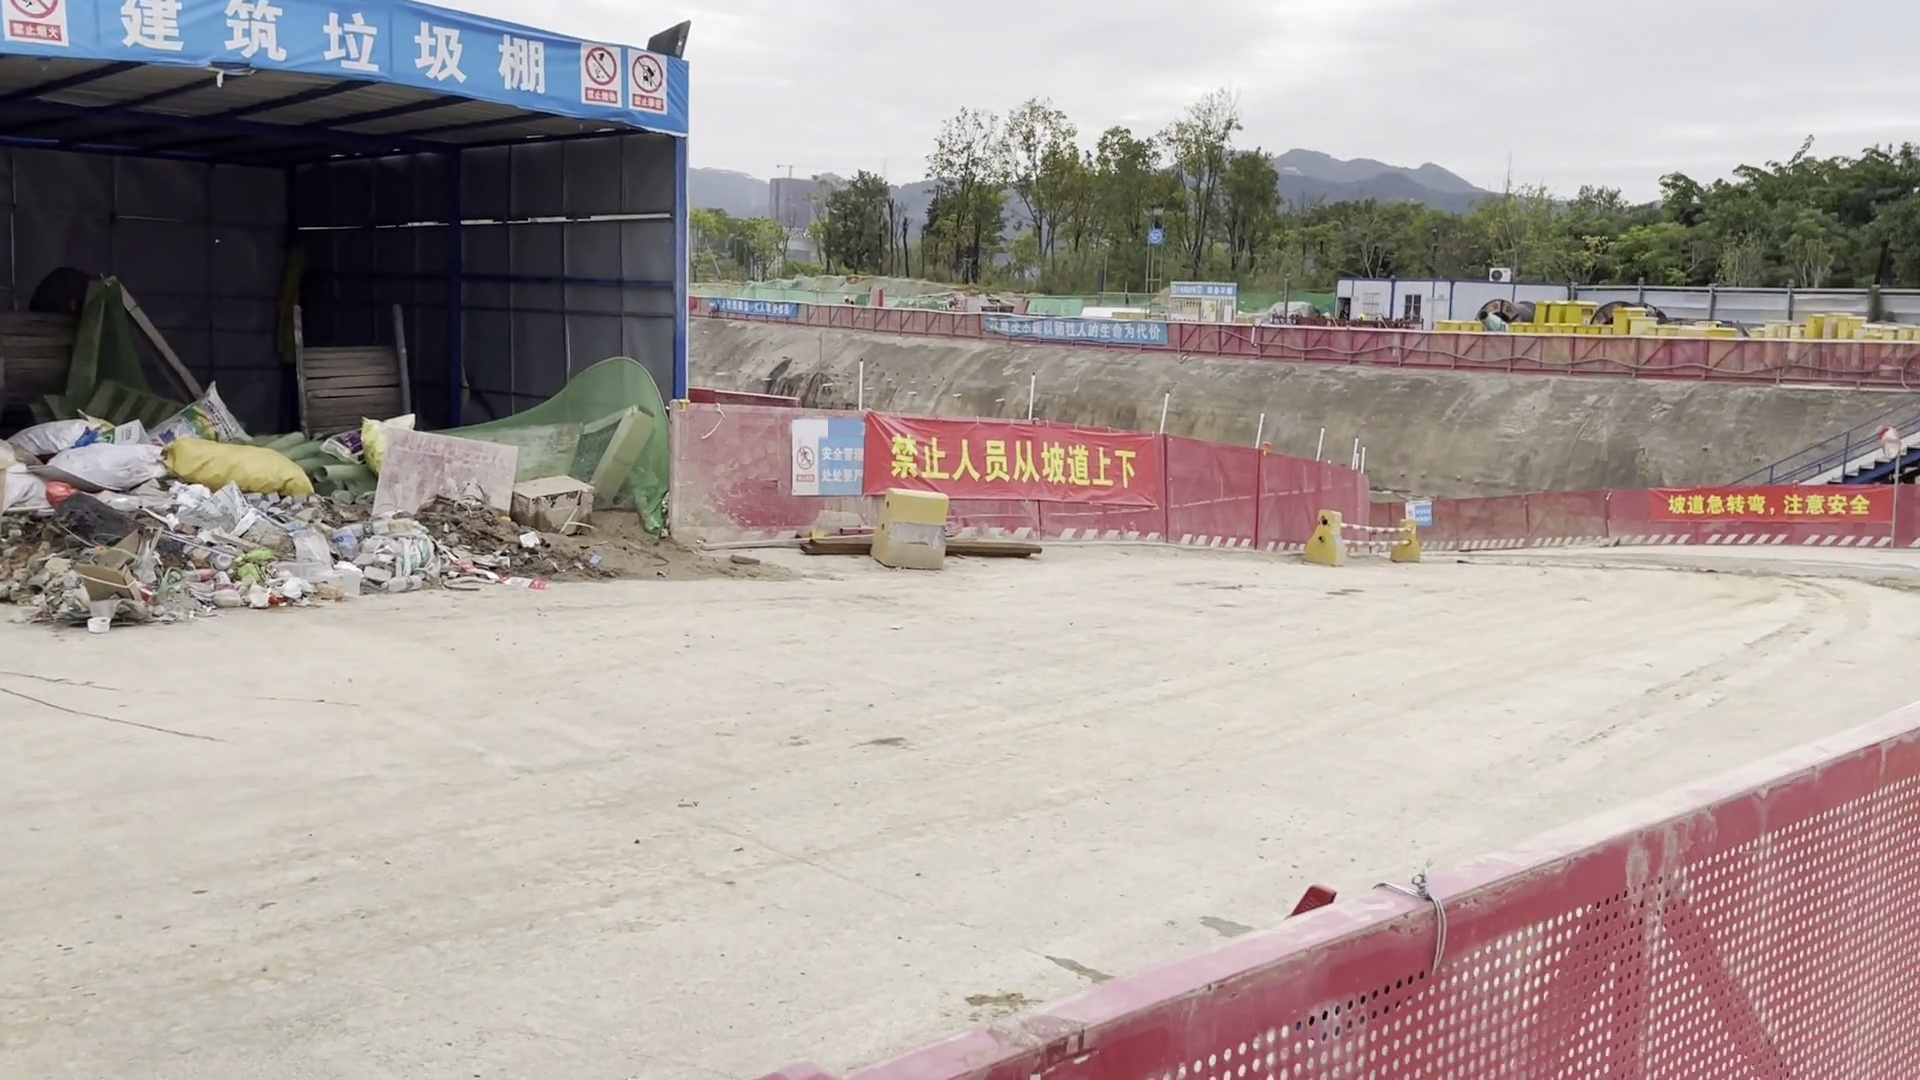fence: (659, 404, 1367, 564), (682, 299, 1920, 375), (1378, 468, 1920, 549)
slogan: (3, 7, 673, 135), (858, 411, 1143, 495), (984, 309, 1167, 349), (1652, 495, 1891, 520), (699, 294, 804, 318)
